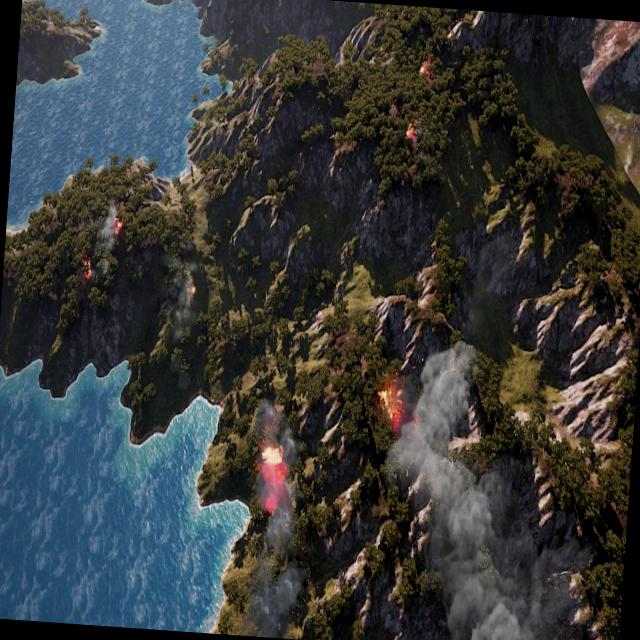fire: (376, 382, 412, 432), (416, 55, 434, 88), (402, 118, 422, 146), (261, 443, 281, 466), (111, 216, 127, 239), (83, 256, 95, 282), (190, 287, 198, 295)
smoke: (372, 337, 601, 640), (238, 400, 322, 640), (158, 248, 207, 347), (96, 196, 130, 258)
